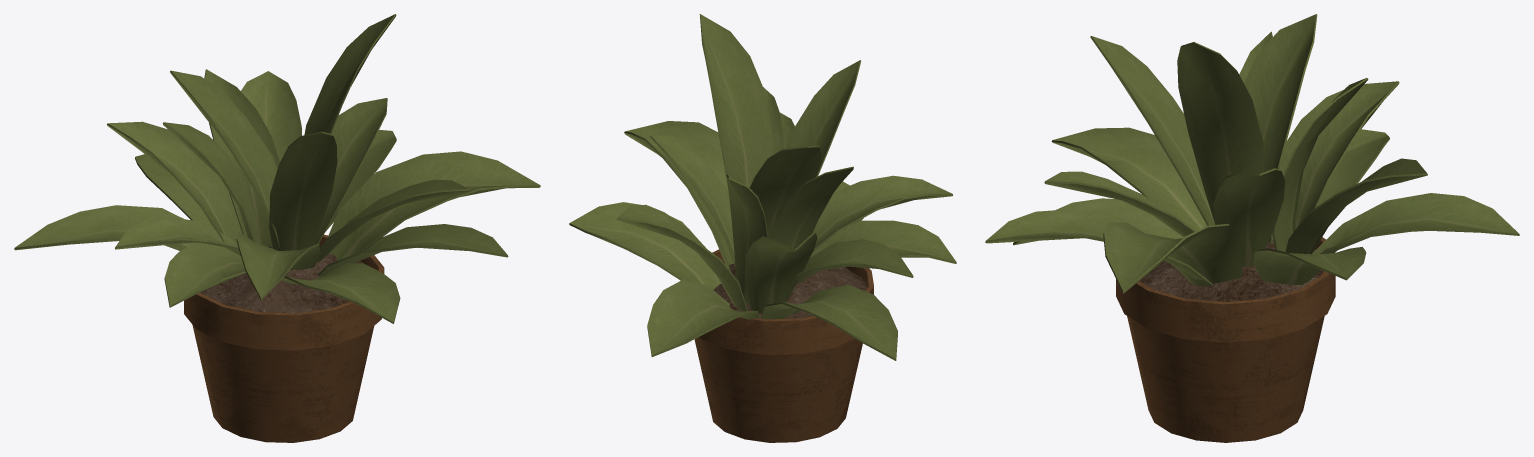
The model's file is Small_potted_plants.fbx.
3 views of the same model, side by side, from view 1: azimuth 30°, elevation 25°; view 2: azimuth 150°, elevation 25°; view 3: azimuth 270°, elevation 25° (orthographic). The views are drawn at different scales.
Parts seen in each view (by area): view 1: Potted_plants; view 2: Potted_plants; view 3: Potted_plants.
Boxes of the visible parts, box(x1,y1,x2,y2) form: Potted_plants: box(14, 14, 540, 442); Potted_plants: box(569, 14, 956, 442); Potted_plants: box(985, 14, 1519, 442).
Bounding box in the file's own units: 43.15 × 39.21 × 45.24.
1 material, 1 textured.
